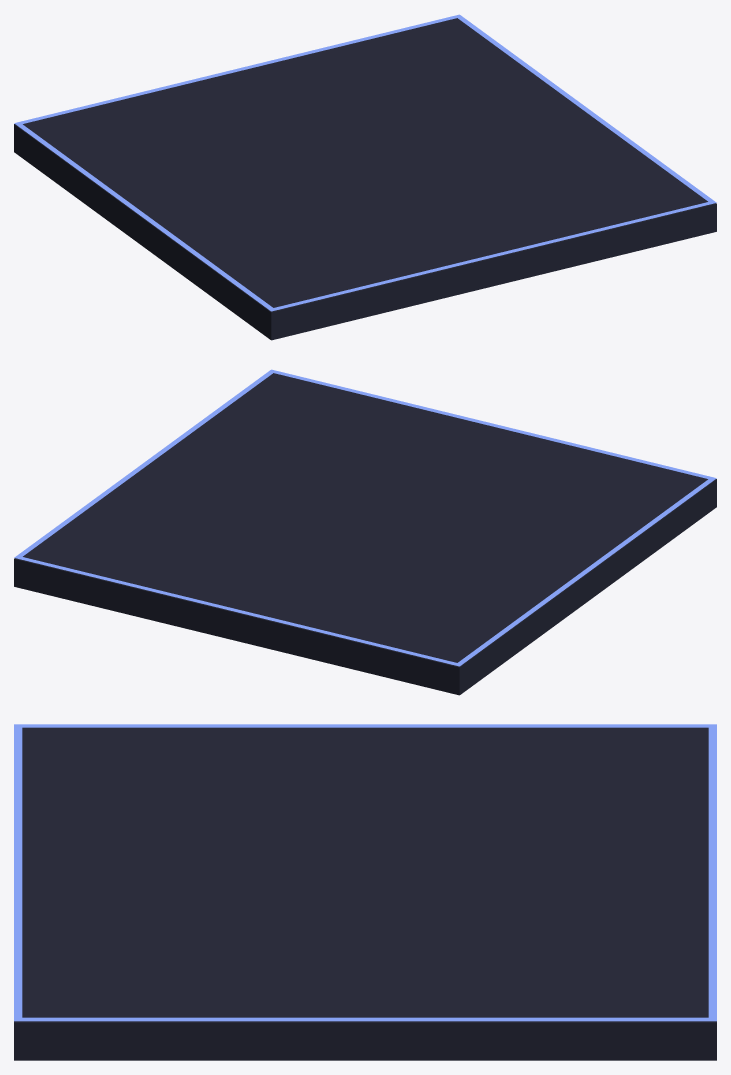
Rendered from floor_tile.glb.
3 renders of one model, top to bottom at view 1: azimuth 30°, elevation 25°; view 2: azimuth 150°, elevation 25°; view 3: azimuth 270°, elevation 25°, orthographic. The views are drawn at different scales.
Visible parts, largest first — view 1: floor_tile; view 2: floor_tile; view 3: floor_tile.
Part boxes in pixels (bbox=[...]): floor_tile: bbox=[14, 14, 716, 340]; floor_tile: bbox=[14, 369, 716, 695]; floor_tile: bbox=[14, 724, 716, 1060].
Size of the model in its own units: 1 by 0.062 by 1.
